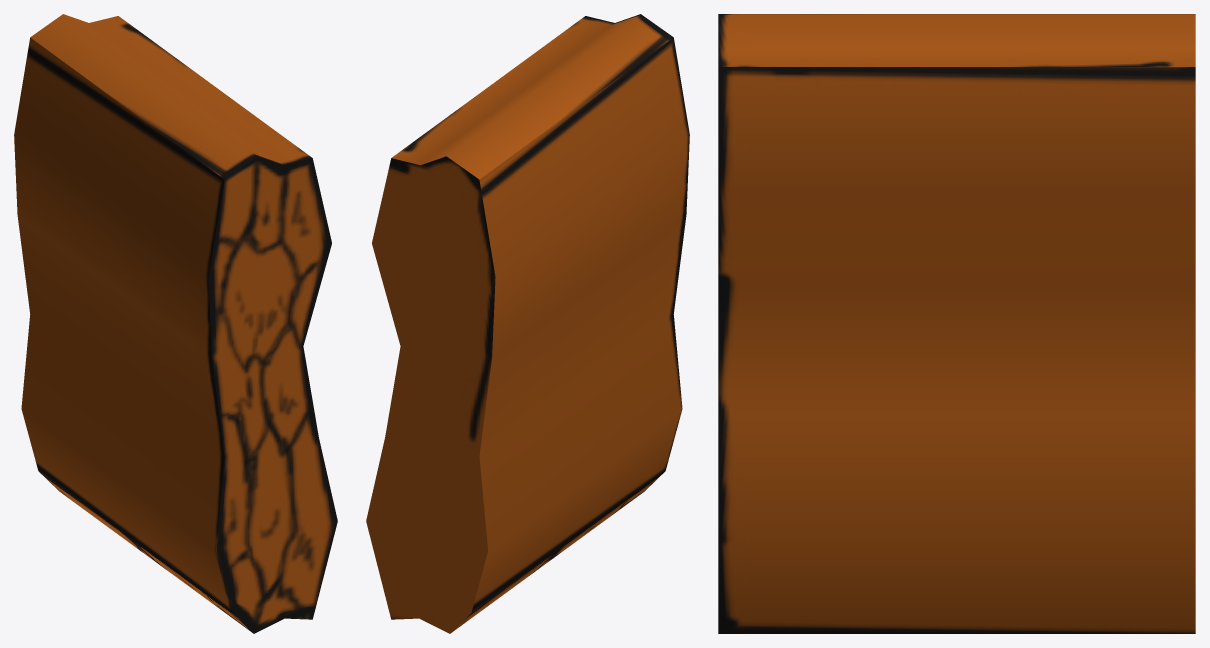
Rendered from stone.fbx.
3 views of the same model, side by side, from view 1: azimuth 30°, elevation 25°; view 2: azimuth 150°, elevation 25°; view 3: azimuth 270°, elevation 25° (orthographic). The views are drawn at different scales.
Parts seen in each view (by area): view 1: pCube1; view 2: pCube1; view 3: pCube1.
Boxes of the visible parts, left/top/right/bottom form: pCube1: left=14, top=14, right=337, bottom=633; pCube1: left=366, top=14, right=689, bottom=633; pCube1: left=718, top=14, right=1195, bottom=633.
Size of the model in its own units: 4.23 by 14.9 by 11.01.
